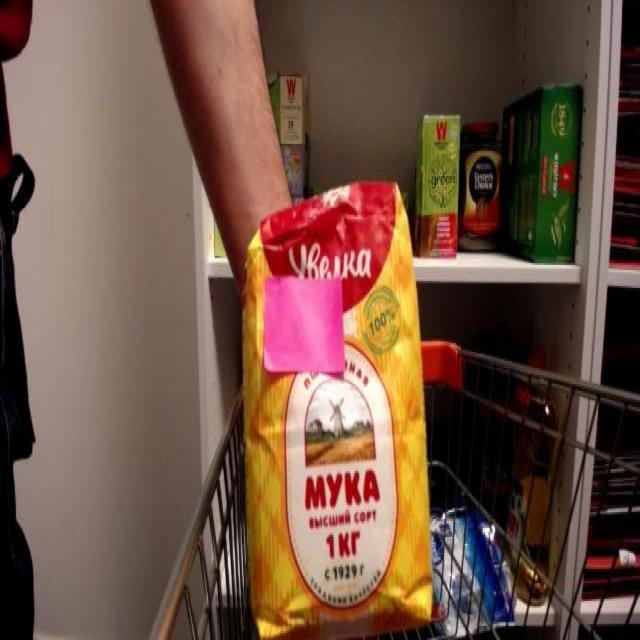Almond Milk: (234, 174, 439, 640)
